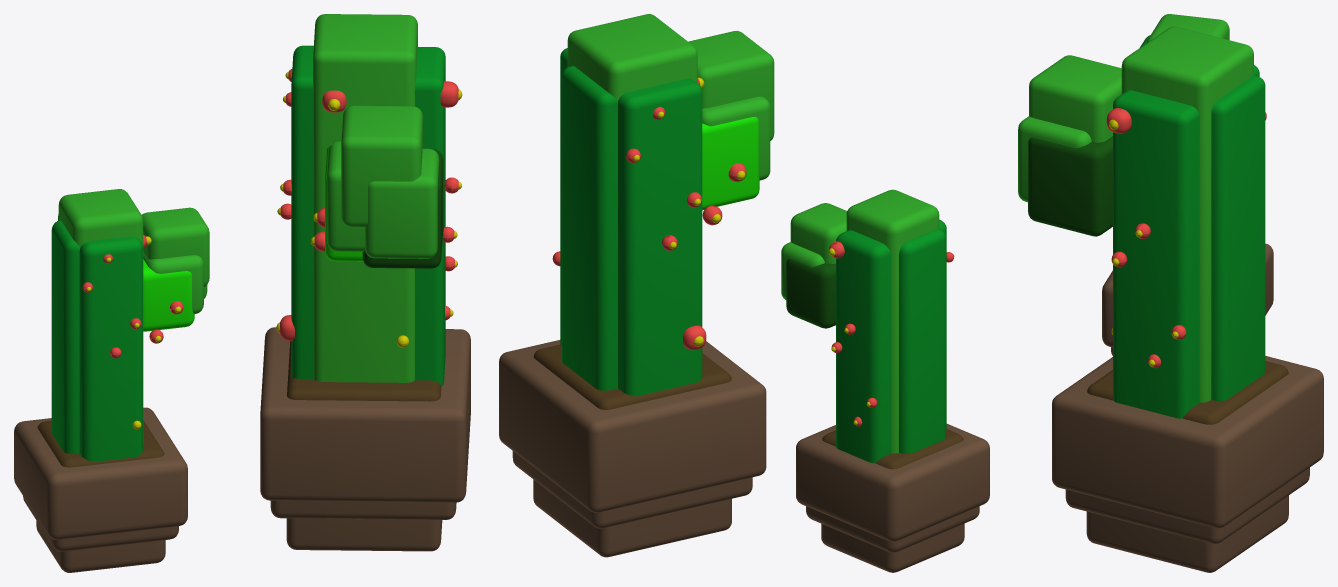
The model's file is Cacti_Alive.fbx.
3 renders of one model, left to right at view 1: azimuth 30°, elevation 25°; view 2: azimuth 150°, elevation 25°; view 3: azimuth 270°, elevation 25°, orthographic.
Visible parts, largest first — view 1: Plant_Pot.006, Plant_Stem.004, Plant_Pot.002, Plant_Stem.001, Plant_Stem.005, Plant_Leaves.006, Plant_Stem.006, Plant_Stem.003, Plant_Leaves.009, Plant_Pot.004, Plant_Stem, Plant_Pot.005 (+10 smaller); view 2: Plant_Pot.006, Plant_Stem.005, Plant_Stem.007, Plant_Pot.002, Plant_Stem.002, Plant_Stem.003, Plant_Stem.004, Plant_Pot.004, Plant_Stem, Plant_Leaves.006, Plant_Leaves.005, Plant_Pot.005 (+9 smaller); view 3: Plant_Pot.006, Plant_Stem.006, Plant_Stem.007, Plant_Stem.004, Plant_Leaves.008, Plant_Pot.004, Plant_Leaves.006, Plant_Pot.005, Plant_Pot.007, Plant_Leaves.009, Plant_Pot.002, Plant_Stem (+1 smaller).
Part boxes in pixels (<box>): Plant_Pot.006: <box>260,327,470,502</box>; Plant_Stem.004: <box>313,14,417,382</box>; Plant_Pot.002: <box>14,407,187,539</box>; Plant_Stem.001: <box>79,236,142,461</box>; Plant_Stem.005: <box>291,45,313,379</box>; Plant_Leaves.006: <box>341,105,422,227</box>; Plant_Stem.006: <box>415,47,445,386</box>; Plant_Stem.003: <box>51,220,80,454</box>; Plant_Leaves.009: <box>365,148,439,258</box>; Plant_Pot.004: <box>286,518,442,551</box>; Plant_Stem: <box>58,189,143,443</box>; Plant_Pot.005: <box>270,500,456,519</box>; Plant_Pot.006: <box>499,340,766,512</box>; Plant_Stem.005: <box>618,78,702,396</box>; Plant_Stem.007: <box>562,66,617,390</box>; Plant_Pot.002: <box>796,424,989,541</box>; Plant_Stem.002: <box>836,230,890,463</box>; Plant_Stem.003: <box>899,228,945,453</box>; Plant_Stem.004: <box>567,14,697,99</box>; Plant_Pot.004: <box>533,479,731,557</box>; Plant_Stem: <box>846,189,939,453</box>; Plant_Leaves.006: <box>688,30,774,140</box>; Plant_Leaves.005: <box>702,117,759,210</box>; Plant_Pot.005: <box>512,451,752,528</box>; Plant_Pot.006: <box>1052,356,1323,528</box>; Plant_Stem.006: <box>1113,90,1199,418</box>; Plant_Stem.007: <box>1211,75,1265,400</box>; Plant_Stem.004: <box>1121,26,1253,402</box>; Plant_Leaves.008: <box>1028,136,1112,236</box>; Plant_Pot.004: <box>1086,495,1288,572</box>; Plant_Leaves.006: <box>1029,55,1121,142</box>; Plant_Pot.005: <box>1065,467,1309,544</box>; Plant_Pot.007: <box>1087,361,1288,424</box>; Plant_Leaves.009: <box>1018,116,1091,202</box>; Plant_Pot.002: <box>1102,243,1273,347</box>; Plant_Stem: <box>1146,14,1229,42</box>.
Size of the model in its own units: 51.46 by 52.37 by 30.06.
